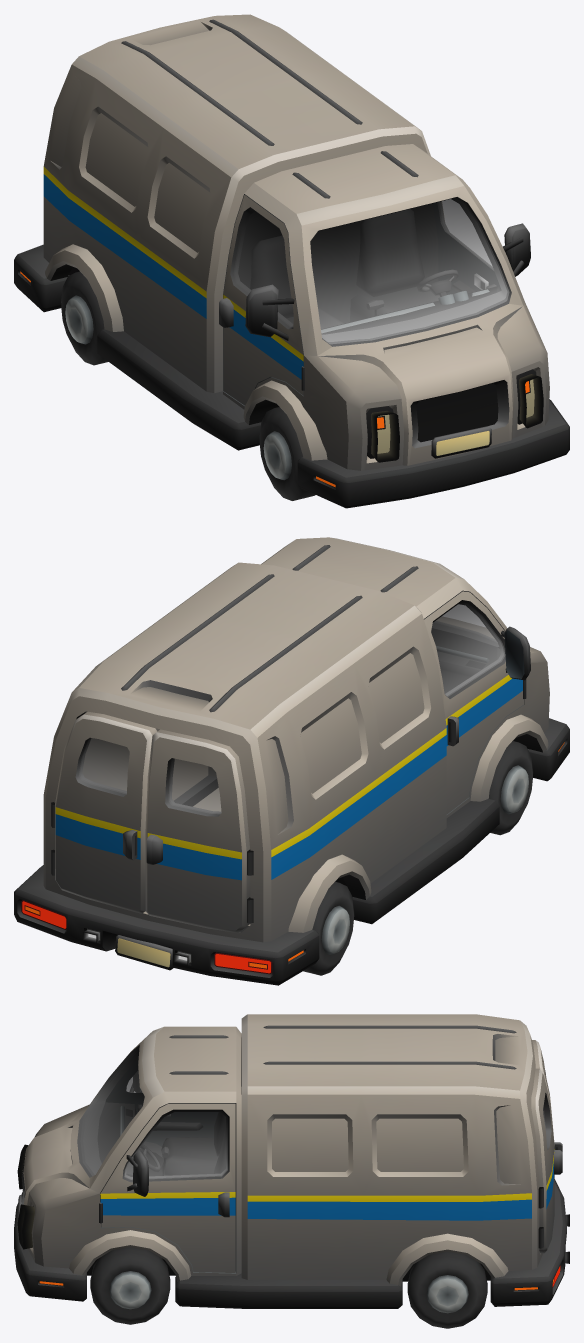
Rendered from tp_van_01a.glb.
3 renders of one model, top to bottom at view 1: azimuth 30°, elevation 25°; view 2: azimuth 150°, elevation 25°; view 3: azimuth 270°, elevation 25°, orthographic. The views are drawn at different scales.
Parts seen in each view (by area): view 1: TP_Van_01A_Body, TP_Van_01A_Door_F.R, TP_Van_01A_Door_F.L, TP_Van_01A_Wheel_F.R, TP_Van_01A_Wheel_R.R, TP_Van_01A_Headlights, TP_Van_01A_Steering_Wheel; view 2: TP_Van_01A_Body, TP_Van_01A_Door_R.R, TP_Van_01A_Door_R.L, TP_Van_01A_Door_F.R, TP_Van_01A_Wheel_F.R, TP_Van_01A_Wheel_R.R, TP_Van_01A_Taillights; view 3: TP_Van_01A_Body, TP_Van_01A_Door_F.L, TP_Van_01A_Wheel_F.L, TP_Van_01A_Wheel_R.L, TP_Van_01A_Door_R.L, TP_Van_01A_Door_F.R, TP_Van_01A_Headlights, TP_Van_01A_Door_R.R.
Part boxes in pixels (x1,y1,x2,y2): TP_Van_01A_Body: (14, 14, 569, 508); TP_Van_01A_Door_F.R: (219, 194, 304, 405); TP_Van_01A_Door_F.L: (432, 199, 530, 294); TP_Van_01A_Wheel_F.R: (259, 407, 315, 500); TP_Van_01A_Wheel_R.R: (61, 271, 108, 365); TP_Van_01A_Headlights: (371, 374, 543, 462); TP_Van_01A_Steering_Wheel: (417, 269, 458, 296); TP_Van_01A_Body: (14, 537, 569, 985); TP_Van_01A_Door_R.R: (145, 729, 253, 932); TP_Van_01A_Door_R.L: (51, 711, 157, 913); TP_Van_01A_Door_F.R: (424, 590, 530, 814); TP_Van_01A_Wheel_F.R: (488, 741, 533, 835); TP_Van_01A_Wheel_R.R: (303, 882, 354, 975); TP_Van_01A_Taillights: (22, 901, 270, 973); TP_Van_01A_Body: (14, 1014, 566, 1308); TP_Van_01A_Door_F.L: (99, 1103, 235, 1272); TP_Van_01A_Wheel_F.L: (90, 1247, 170, 1324); TP_Van_01A_Wheel_R.L: (407, 1251, 487, 1328); TP_Van_01A_Door_R.L: (531, 1068, 562, 1253); TP_Van_01A_Door_F.R: (105, 1058, 218, 1146); TP_Van_01A_Headlights: (17, 1144, 34, 1249); TP_Van_01A_Door_R.R: (532, 1040, 562, 1151).
Bounding box in the file's own units: 2.47 × 2.33 × 5.
Materials: 3 (3 with a texture image).
